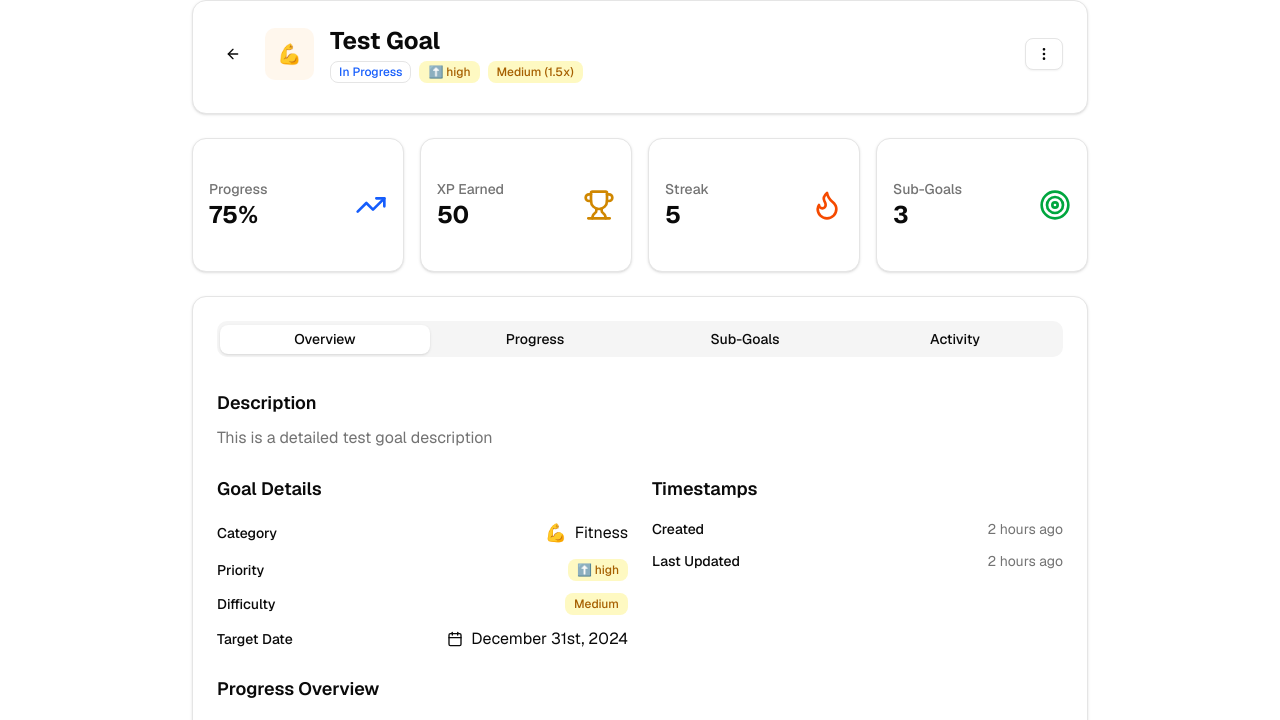
Test case: GoalDetail Component › Activity Tab › should display activity timeline
Step 1. Click the tab "Activity" → [955, 339], box [850,324,1060,354]
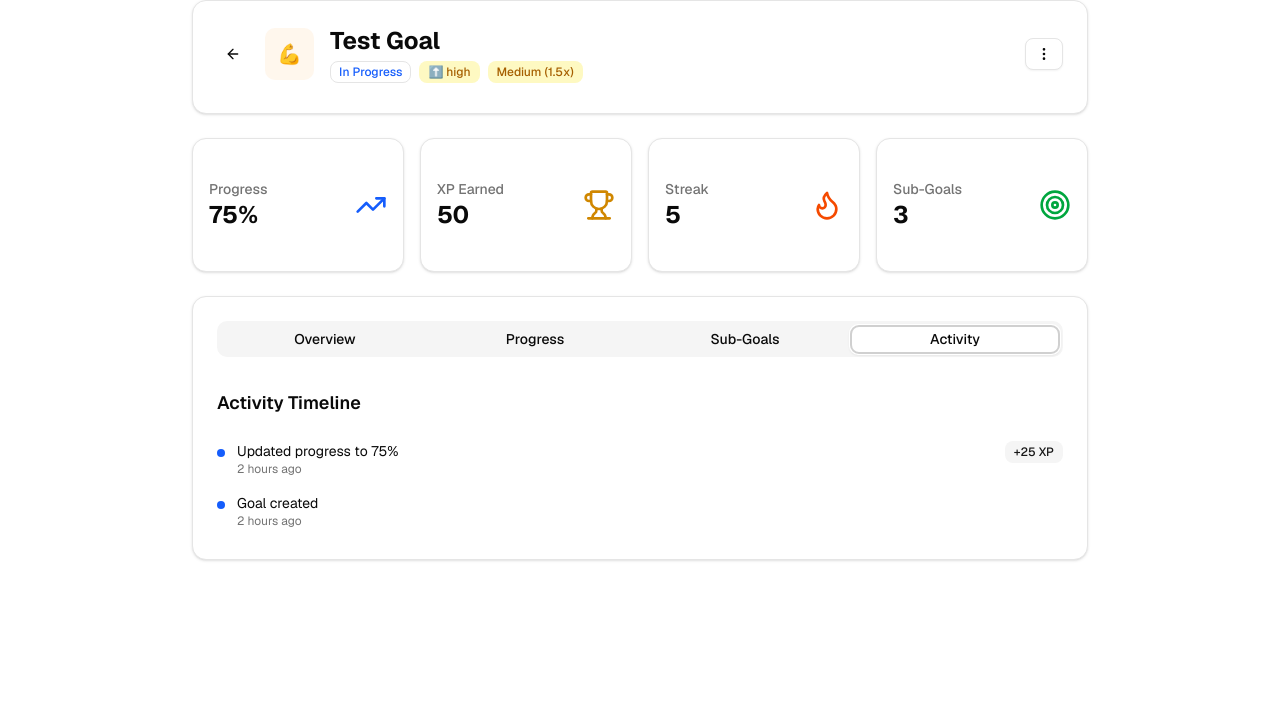
Check: the heading "Activity Timeline" is shown, box [217,391,361,414]
Check: the text "Updated progress to 75%" is shown, box [237,442,398,460]
Check: the text "Goal created" is shown, box [237,494,318,512]
